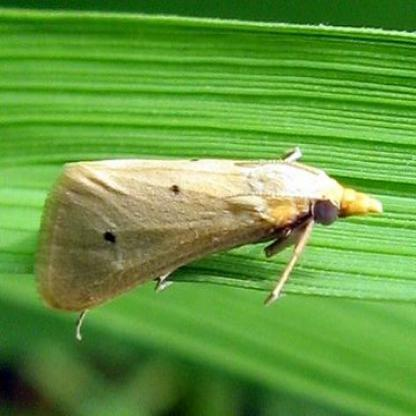stem-borer: (32, 145, 385, 343)
